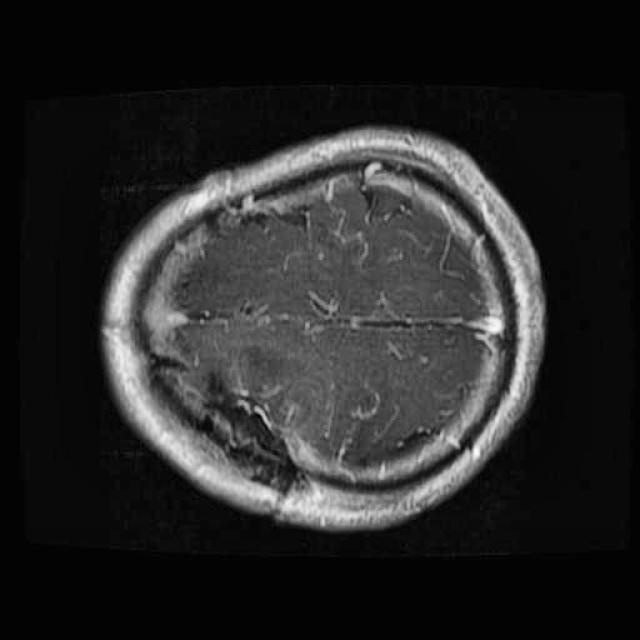Tumor: (167, 348, 316, 518)
